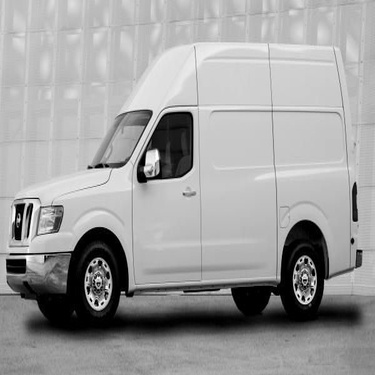car: (4, 29, 367, 338)
